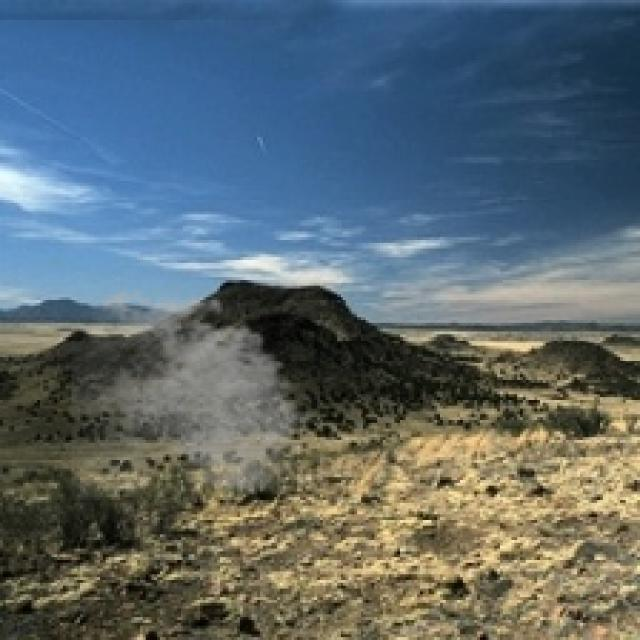Smoke: (71, 283, 318, 500)
